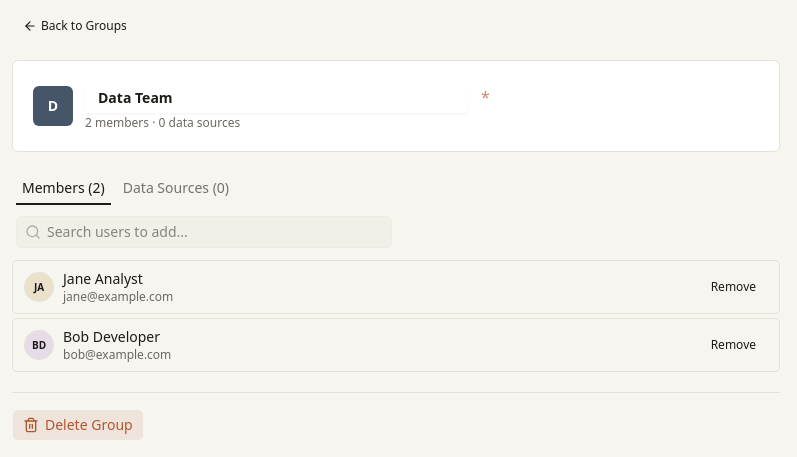
GroupDetail membership changes › removes the member the admin picked, and only that one
This screenshot has width=797, height=457.
expect the text "Jane Analyst" is shown: met, box [63,269,143,288]
expect the text "Bob Developer" is shown: met, box [63,327,160,346]
Click the button "Remove" in the row of "jane@example.com": (733, 287) [700,273,767,301]
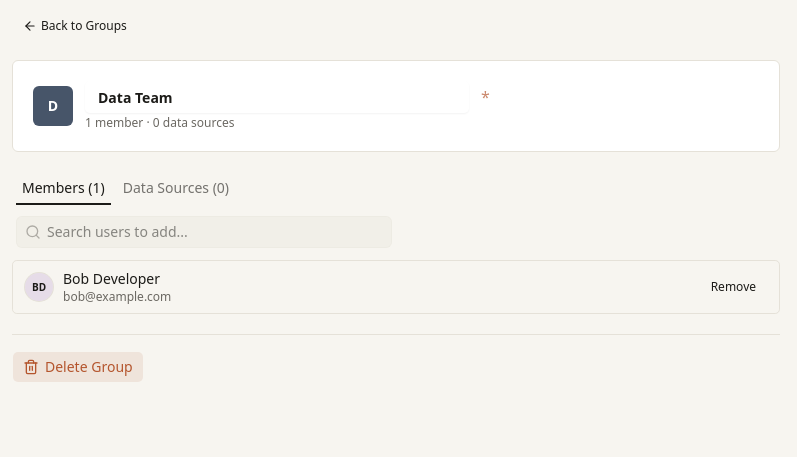
expect the text "Bob Developer" is shown: met, box [63,269,160,288]
expect the text "Jane Analyst" is gone: met
expect the tab "Members (1)" is shown: met, box [15,176,112,200]
